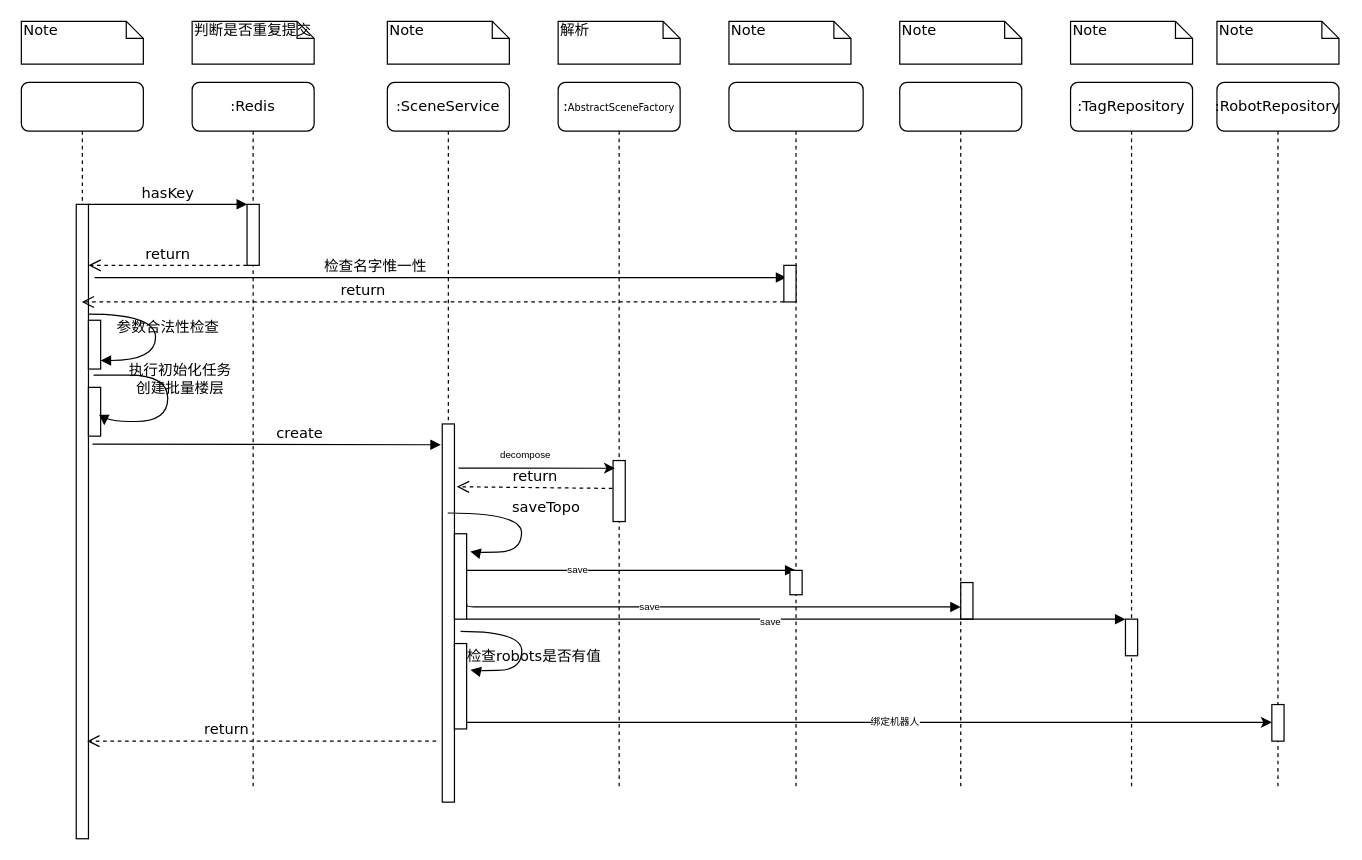
Image size: 1362x860. Some labels were removed from this diagram. The box of each missing label's shape, as (x1, y1, x2, y2) in pixels:
:AreaRepository: (899, 81, 1022, 790)
:SceneRepository: (728, 81, 863, 790)
:SiteService: (20, 81, 143, 839)
